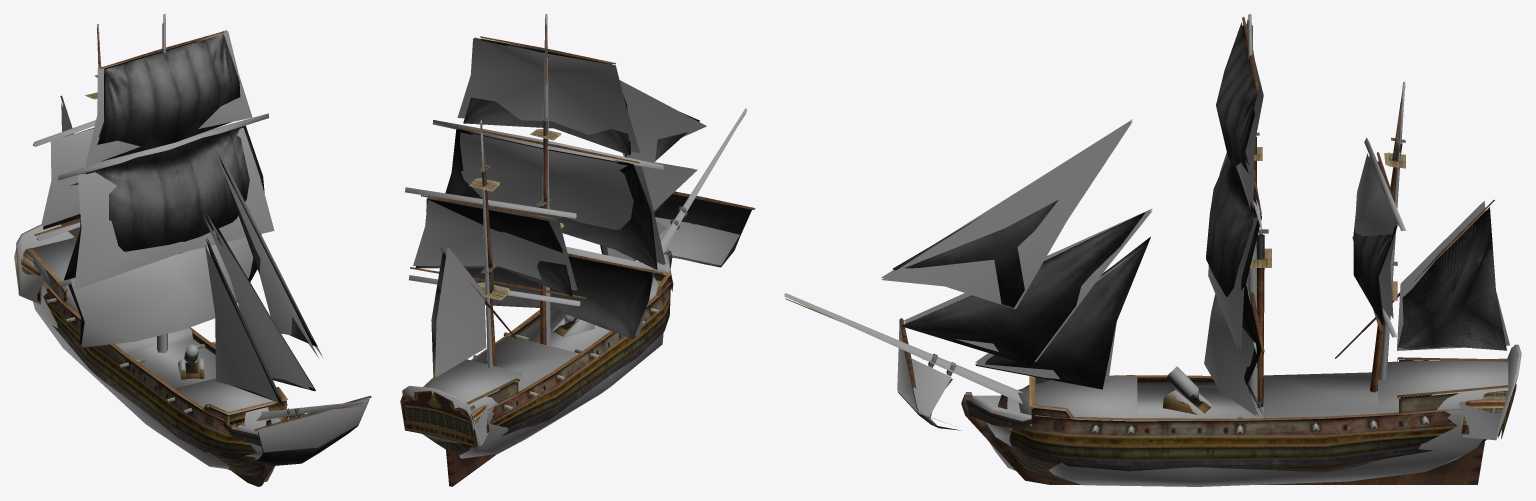
Rendered from F_Monster_027_m.fbx.
The picture shows the model from 3 angles, left to right: view 1: azimuth 30°, elevation 25°; view 2: azimuth 150°, elevation 25°; view 3: azimuth 270°, elevation 25°; orthographic projection. The views are drawn at different scales.
Visible parts, largest first — view 1: F_Ship_FakeShadow, F_Ship_Sail, F_Ship; view 2: F_Ship_FakeShadow, F_Ship_Sail, F_Ship; view 3: F_Ship_FakeShadow, F_Ship_Sail, F_Ship.
Part boxes in pixels (x1,y1,x2,y2): F_Ship_FakeShadow: [16, 14, 369, 481]; F_Ship_Sail: [43, 34, 369, 465]; F_Ship: [14, 23, 371, 486]; F_Ship_FakeShadow: [402, 14, 747, 458]; F_Ship_Sail: [415, 38, 751, 377]; F_Ship: [400, 24, 755, 486]; F_Ship_FakeShadow: [784, 14, 1521, 486]; F_Ship_Sail: [893, 22, 1506, 430]; F_Ship: [785, 17, 1517, 484].
Size of the model in its own units: 0.4283 by 0.7446 by 1.06.
3 materials, 2 textured.
